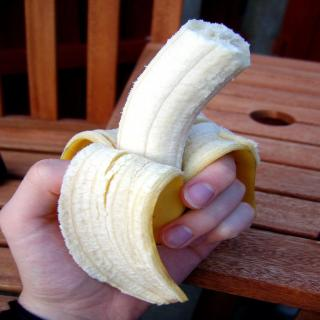Banana: (57, 17, 261, 307)
